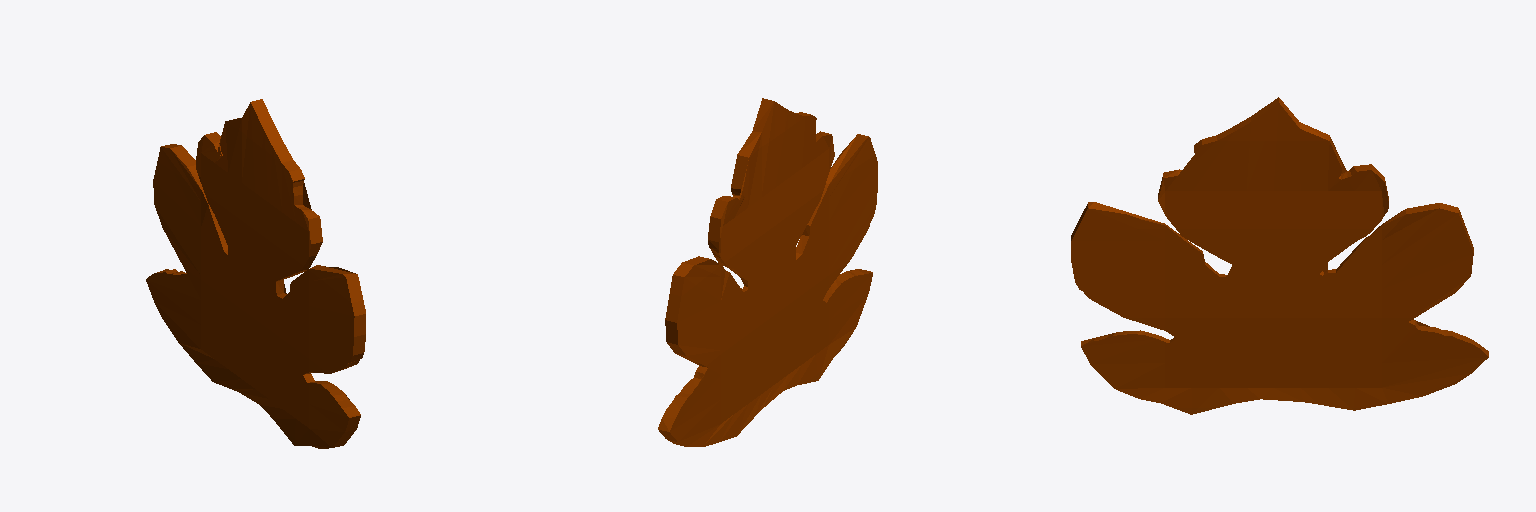
3 renders of one model, left to right at view 1: azimuth 30°, elevation 25°; view 2: azimuth 150°, elevation 25°; view 3: azimuth 270°, elevation 25°, orthographic.
Parts seen in each view (by area): view 1: MapleLeaf_Bronze; view 2: MapleLeaf_Bronze; view 3: MapleLeaf_Bronze.
Boxes of the visible parts, x1,y1,x2,y2 form: MapleLeaf_Bronze: [146, 99, 365, 448]; MapleLeaf_Bronze: [658, 98, 877, 446]; MapleLeaf_Bronze: [1071, 97, 1488, 414].
Size of the model in its own units: 0.2587 by 6.47 by 7.85.
Materials: 1 (1 with a texture image).